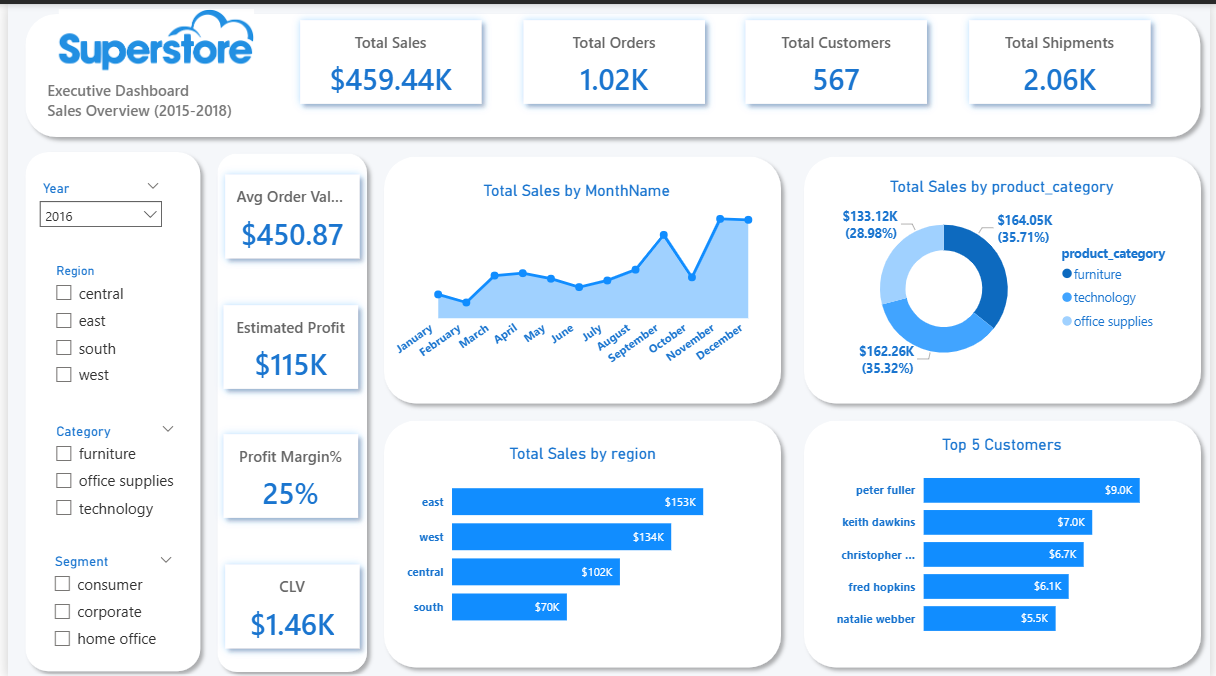

The page's visual inventory and layout, read from the dashboard file:
{"tool":"powerbi","page":{"name":"Executive Dashboard","canvas":[1280,720],"ordinal":0},"visuals":[{"type":"shape","box":[838.8,153.4,441,281.2],"z":0},{"type":"shape","box":[390.6,433.8,441,281.2],"z":1000},{"type":"shape","box":[838.8,433.8,441,281.2],"z":2000},{"type":"shape","box":[390.6,153.4,441,281.2],"z":3000},{"type":"shape","box":[214.1,150.2,177.3,570.4],"z":4000},{"type":"shape","box":[10,1.7,1269.4,149],"z":5000},{"type":"image","title":"Executive Dashboard","box":[36.8,0,242.8,75.4],"z":6000},{"type":"textbox","box":[36.8,75.4,242.8,60.3],"z":7000},{"type":"cardVisual","fields":{"Data":["Measure.Total Sales"]},"box":[294.7,0,227.8,123.9],"z":8000},{"type":"cardVisual","fields":{"Data":["Measure.Total Orders"]},"box":[532,0,227.8,123.9],"z":9000},{"type":"cardVisual","fields":{"Data":["Measure.Total Customers"]},"box":[769.2,0,227.8,123.9],"z":10000},{"type":"cardVisual","fields":{"Data":["Measure.Total Shipments (Ship Date)"]},"box":[1006.5,0,227.8,123.9],"z":11000},{"type":"cardVisual","fields":{"Data":["Measure.Avg Order Value"]},"box":[214.1,164.6,177.3,123],"z":12000},{"type":"shape","box":[10,149,204.3,571.1],"z":13000},{"type":"slicer","fields":{"Values":["Calendar.Year"]},"box":[23.3,182.8,149.7,87.5],"z":14000},{"type":"slicer","fields":{"Values":["region_info.region"]},"box":[38.5,271,150.7,155.7],"z":15000},{"type":"slicer","fields":{"Values":["product_info.product_category"]},"box":[37.8,440.8,151.2,124.7],"z":16000},{"type":"slicer","fields":{"Values":["customer_info.customer_segment"]},"box":[36.8,579.4,150.7,118.9],"z":17000},{"type":"lineChart","fields":{"Y":["Measure.Total Sales"],"Category":["Calendar.Year Hierarchy.Year","Calendar.Year Hierarchy.Quarter","Calendar.Year Hierarchy.MonthName","Calendar.Year Hierarchy.full_date"]},"box":[405.8,188.5,399.4,210.9],"z":18000},{"type":"clusteredBarChart","fields":{"Y":["Measure.Total Sales"],"Category":["region_info.region"]},"box":[418.6,468.1,386.6,209.3],"z":19000},{"type":"donutChart","fields":{"Y":["Measure.Total Sales"],"Category":["product_info.product_category"]},"box":[865.9,183.7,385,218.9],"z":20000},{"type":"clusteredBarChart","title":"Top 5 Customers","fields":{"Category":["customer_info.customer_name"],"Y":["Measure.Total Sales"]},"box":[865.9,458.5,385,228.5],"z":21000},{"type":"cardVisual","fields":{"Data":["Measure.Estimated Profit"]},"box":[212.5,303,177.3,123],"z":22000},{"type":"cardVisual","fields":{"Data":["Measure.Profit Margin%"]},"box":[212.5,441.5,177.3,123],"z":23000},{"type":"cardVisual","fields":{"Data":["Measure.Customer Lifetime Value"]},"box":[214.1,580,177.3,123],"z":24000}]}

Visuals, with their boxes in screenshot pixels (x1, y1, x2, y2), scaled from the page's 1280x720 canvas onto the 1216x676 screenshot:
shape: <region>797, 144, 1215, 408</region>
shape: <region>371, 407, 790, 671</region>
shape: <region>797, 407, 1215, 671</region>
shape: <region>371, 144, 790, 408</region>
shape: <region>203, 141, 372, 675</region>
shape: <region>10, 2, 1215, 141</region>
"Executive Dashboard" image: <region>35, 0, 266, 71</region>
textbox: <region>35, 71, 266, 127</region>
cardVisual - Measure.Total Sales: <region>280, 0, 496, 116</region>
cardVisual - Measure.Total Orders: <region>505, 0, 722, 116</region>
cardVisual - Measure.Total Customers: <region>731, 0, 947, 116</region>
cardVisual - Measure.Total Shipments (Ship Date): <region>956, 0, 1173, 116</region>
cardVisual - Measure.Avg Order Value: <region>203, 155, 372, 270</region>
shape: <region>10, 140, 204, 675</region>
slicer - Calendar.Year: <region>22, 172, 164, 254</region>
slicer - region_info.region: <region>37, 254, 180, 401</region>
slicer - product_info.product_category: <region>36, 414, 180, 531</region>
slicer - customer_info.customer_segment: <region>35, 544, 178, 656</region>
lineChart - Measure.Total Sales x Calendar.Year Hierarchy.Year: <region>386, 177, 765, 375</region>
clusteredBarChart - Measure.Total Sales x region_info.region: <region>398, 439, 765, 636</region>
donutChart - Measure.Total Sales x product_info.product_category: <region>823, 172, 1188, 378</region>
"Top 5 Customers" clusteredBarChart: <region>823, 430, 1188, 645</region>
cardVisual - Measure.Estimated Profit: <region>202, 284, 370, 400</region>
cardVisual - Measure.Profit Margin%: <region>202, 415, 370, 530</region>
cardVisual - Measure.Customer Lifetime Value: <region>203, 545, 372, 660</region>
